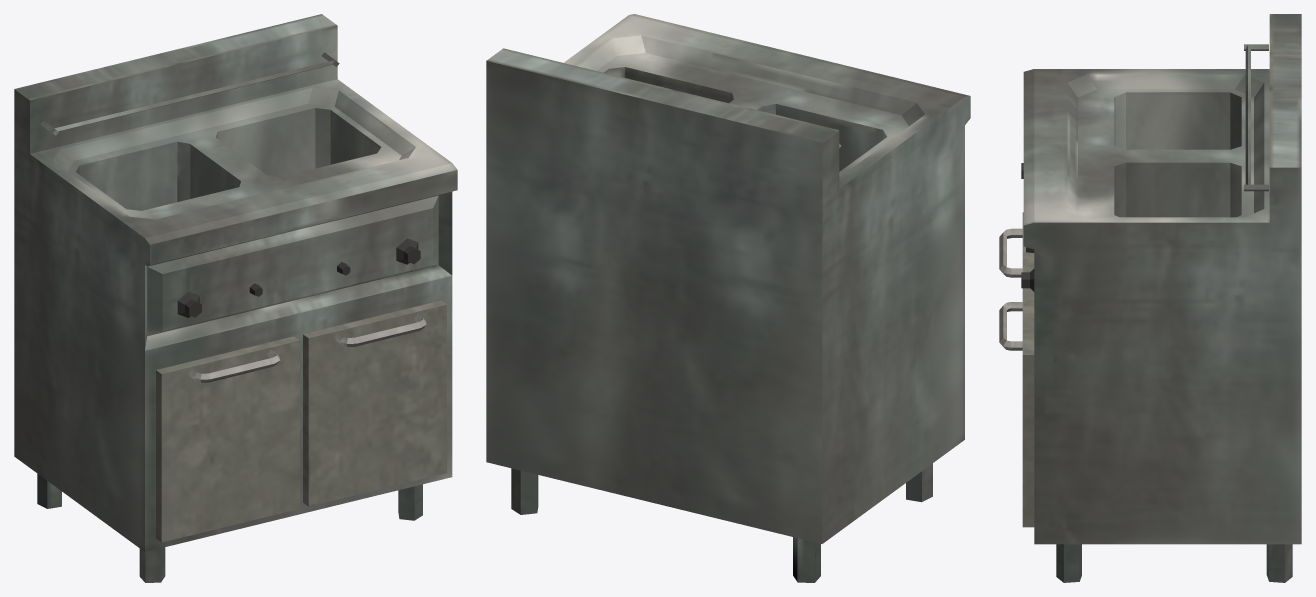
The model's file is Fryer.glb.
The picture shows the model from 3 angles, left to right: view 1: azimuth 30°, elevation 25°; view 2: azimuth 150°, elevation 25°; view 3: azimuth 270°, elevation 25°; orthographic projection. The views are drawn at different scales.
Parts seen in each view (by area): view 1: Fryer; view 2: Fryer; view 3: Fryer.
Part boxes in pixels (x1=…): Fryer: x1=14, y1=14, x2=457, y2=582; Fryer: x1=486, y1=14, x2=970, y2=582; Fryer: x1=999, y1=14, x2=1301, y2=582.
Bounding box in the file's own units: 1.22 × 1.56 × 1.01.
Materials: 1 (1 with a texture image).
